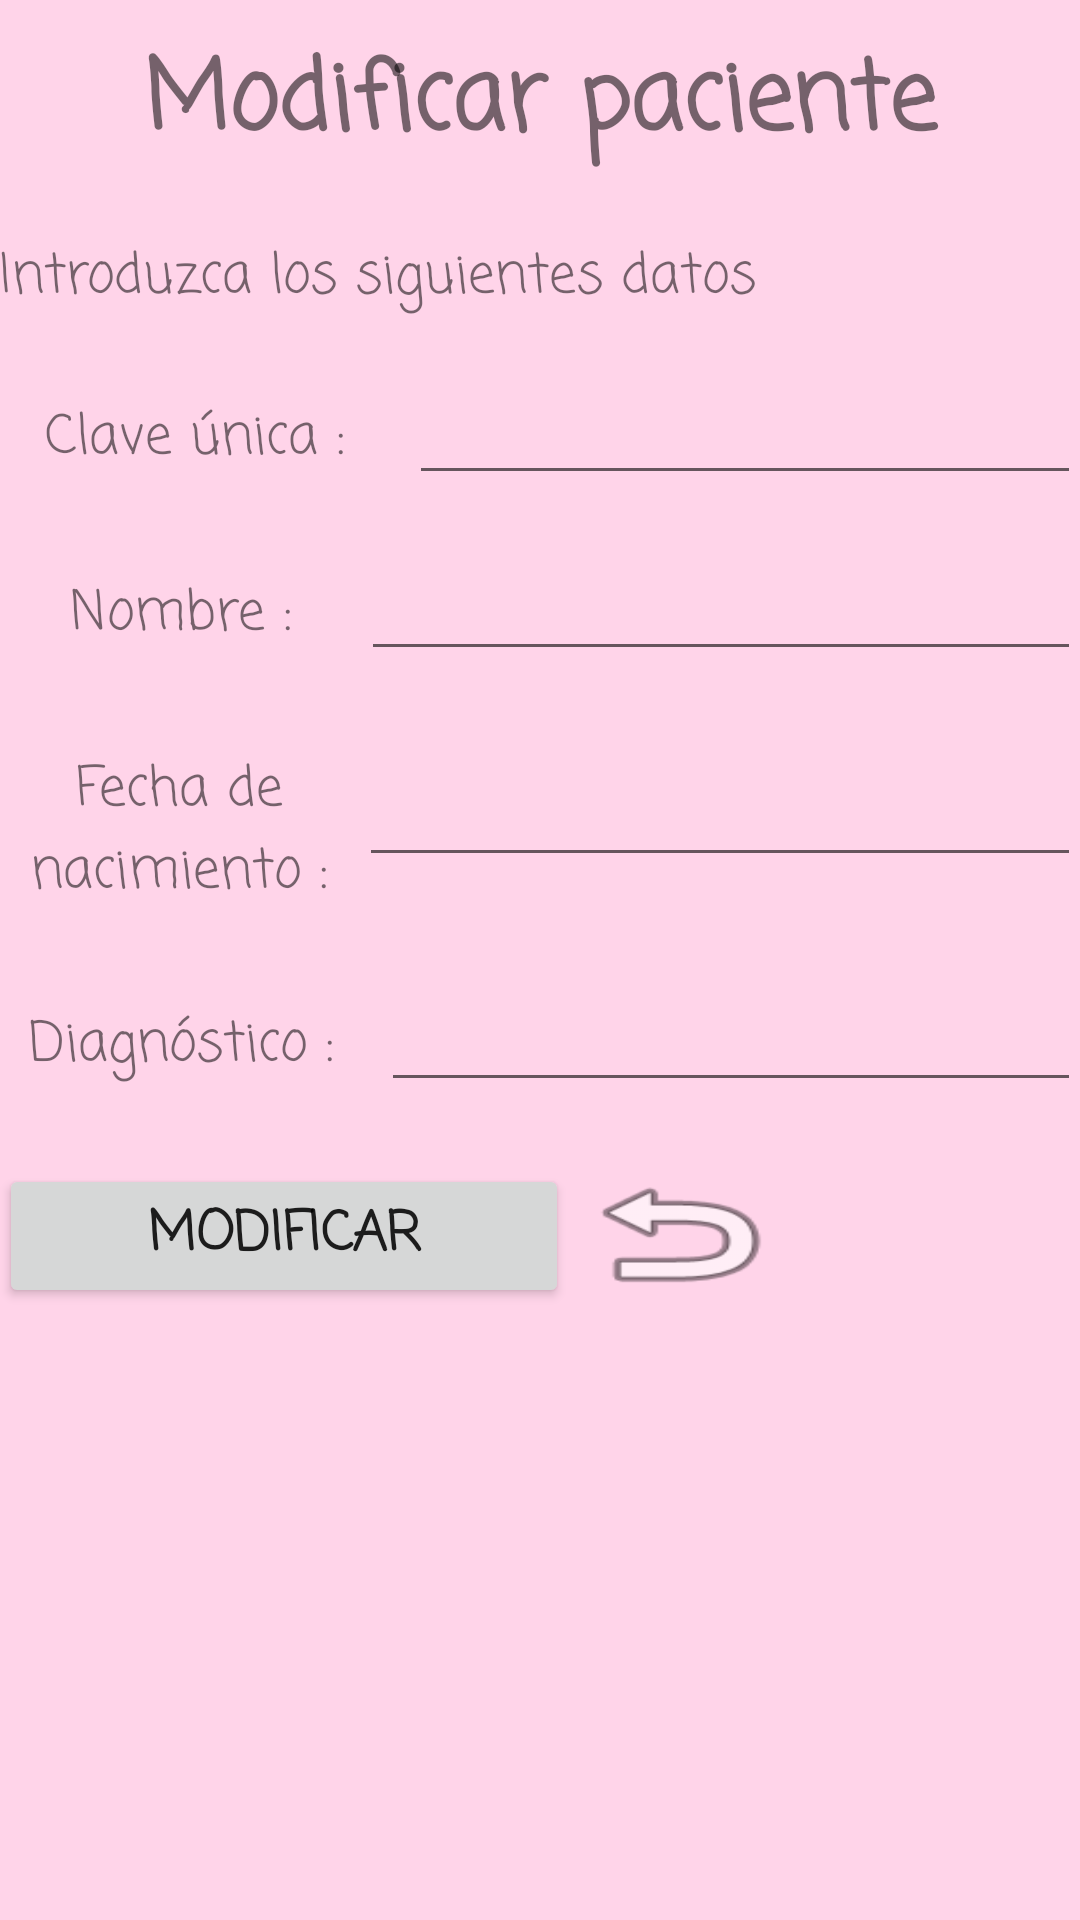

Icon click points for this 1080×1920 phone screenshot, format point (x, y):
revert: point (681, 1235)
